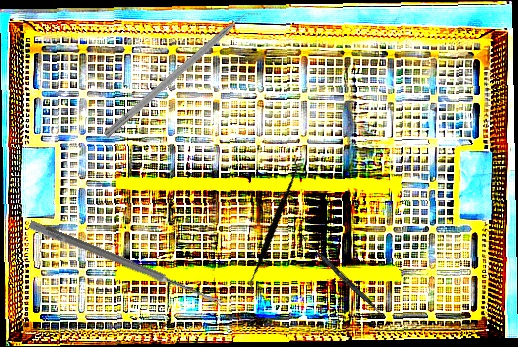Chopper: (103, 3, 264, 147)
Spatula Surgical: (225, 157, 321, 294), (299, 235, 387, 319)
Surgical Spoon: (27, 220, 226, 308)
